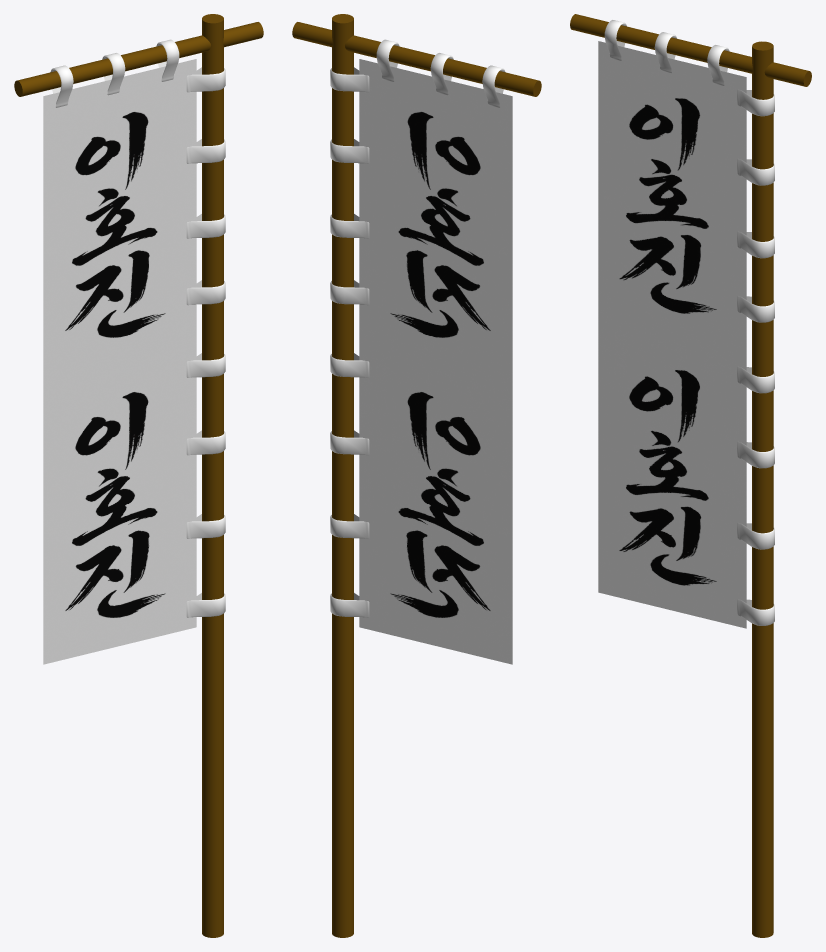
The model's file is Hata_3.fbx.
The picture shows the model from 3 angles, left to right: view 1: azimuth 30°, elevation 25°; view 2: azimuth 150°, elevation 25°; view 3: azimuth 330°, elevation 25°; orthographic projection. The views are drawn at different scales.
Parts seen in each view (by area): view 1: obj4; view 2: obj4; view 3: obj4.
Part boxes in pixels (x1=…): obj4: x1=14, y1=14, x2=263, y2=937; obj4: x1=292, y1=14, x2=541, y2=937; obj4: x1=570, y1=14, x2=811, y2=937.
Size of the model in its own units: 6.65 by 73.15 by 265.
Materials: 3 (1 with a texture image).
